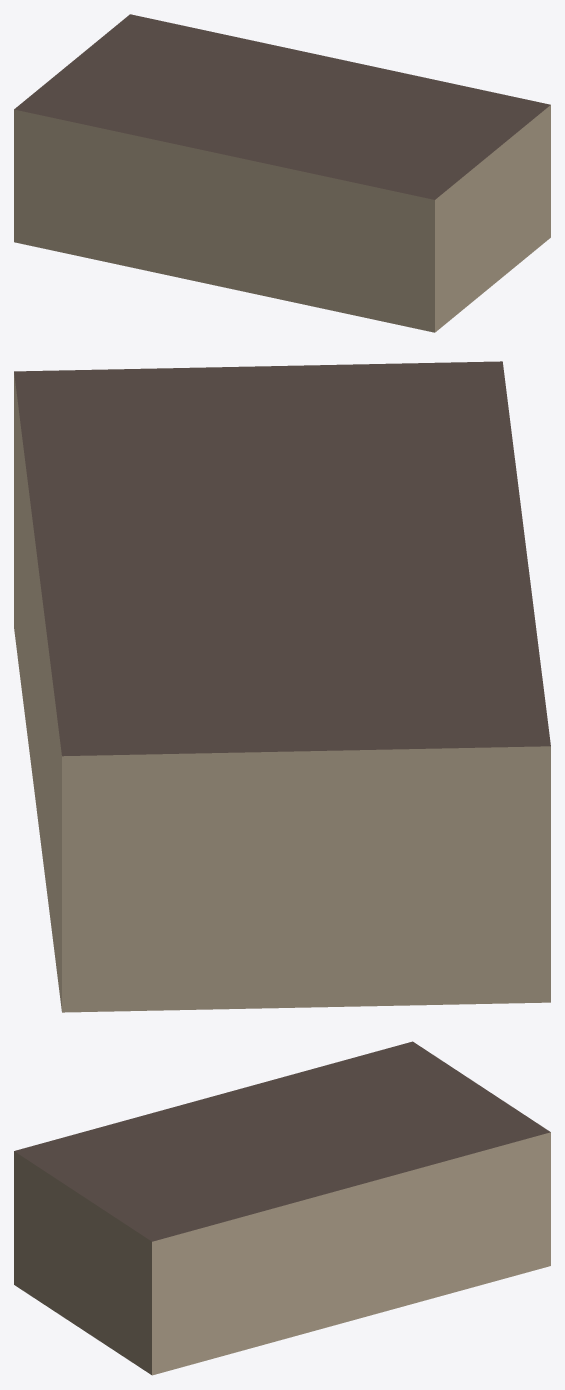
3 views of the same model, one above another, from view 1: azimuth 30°, elevation 25°; view 2: azimuth 150°, elevation 25°; view 3: azimuth 270°, elevation 25° (orthographic). The views are drawn at different scales.
Parts seen in each view (by area): view 1: HP-w369237942; view 2: HP-w369237942; view 3: HP-w369237942.
Part boxes in pixels (x1,y1,x2,y2): HP-w369237942: [14, 14, 550, 332]; HP-w369237942: [14, 361, 550, 1012]; HP-w369237942: [14, 1041, 550, 1375].
Bounding box in the file's own units: 28.91 × 9 × 32.75.
